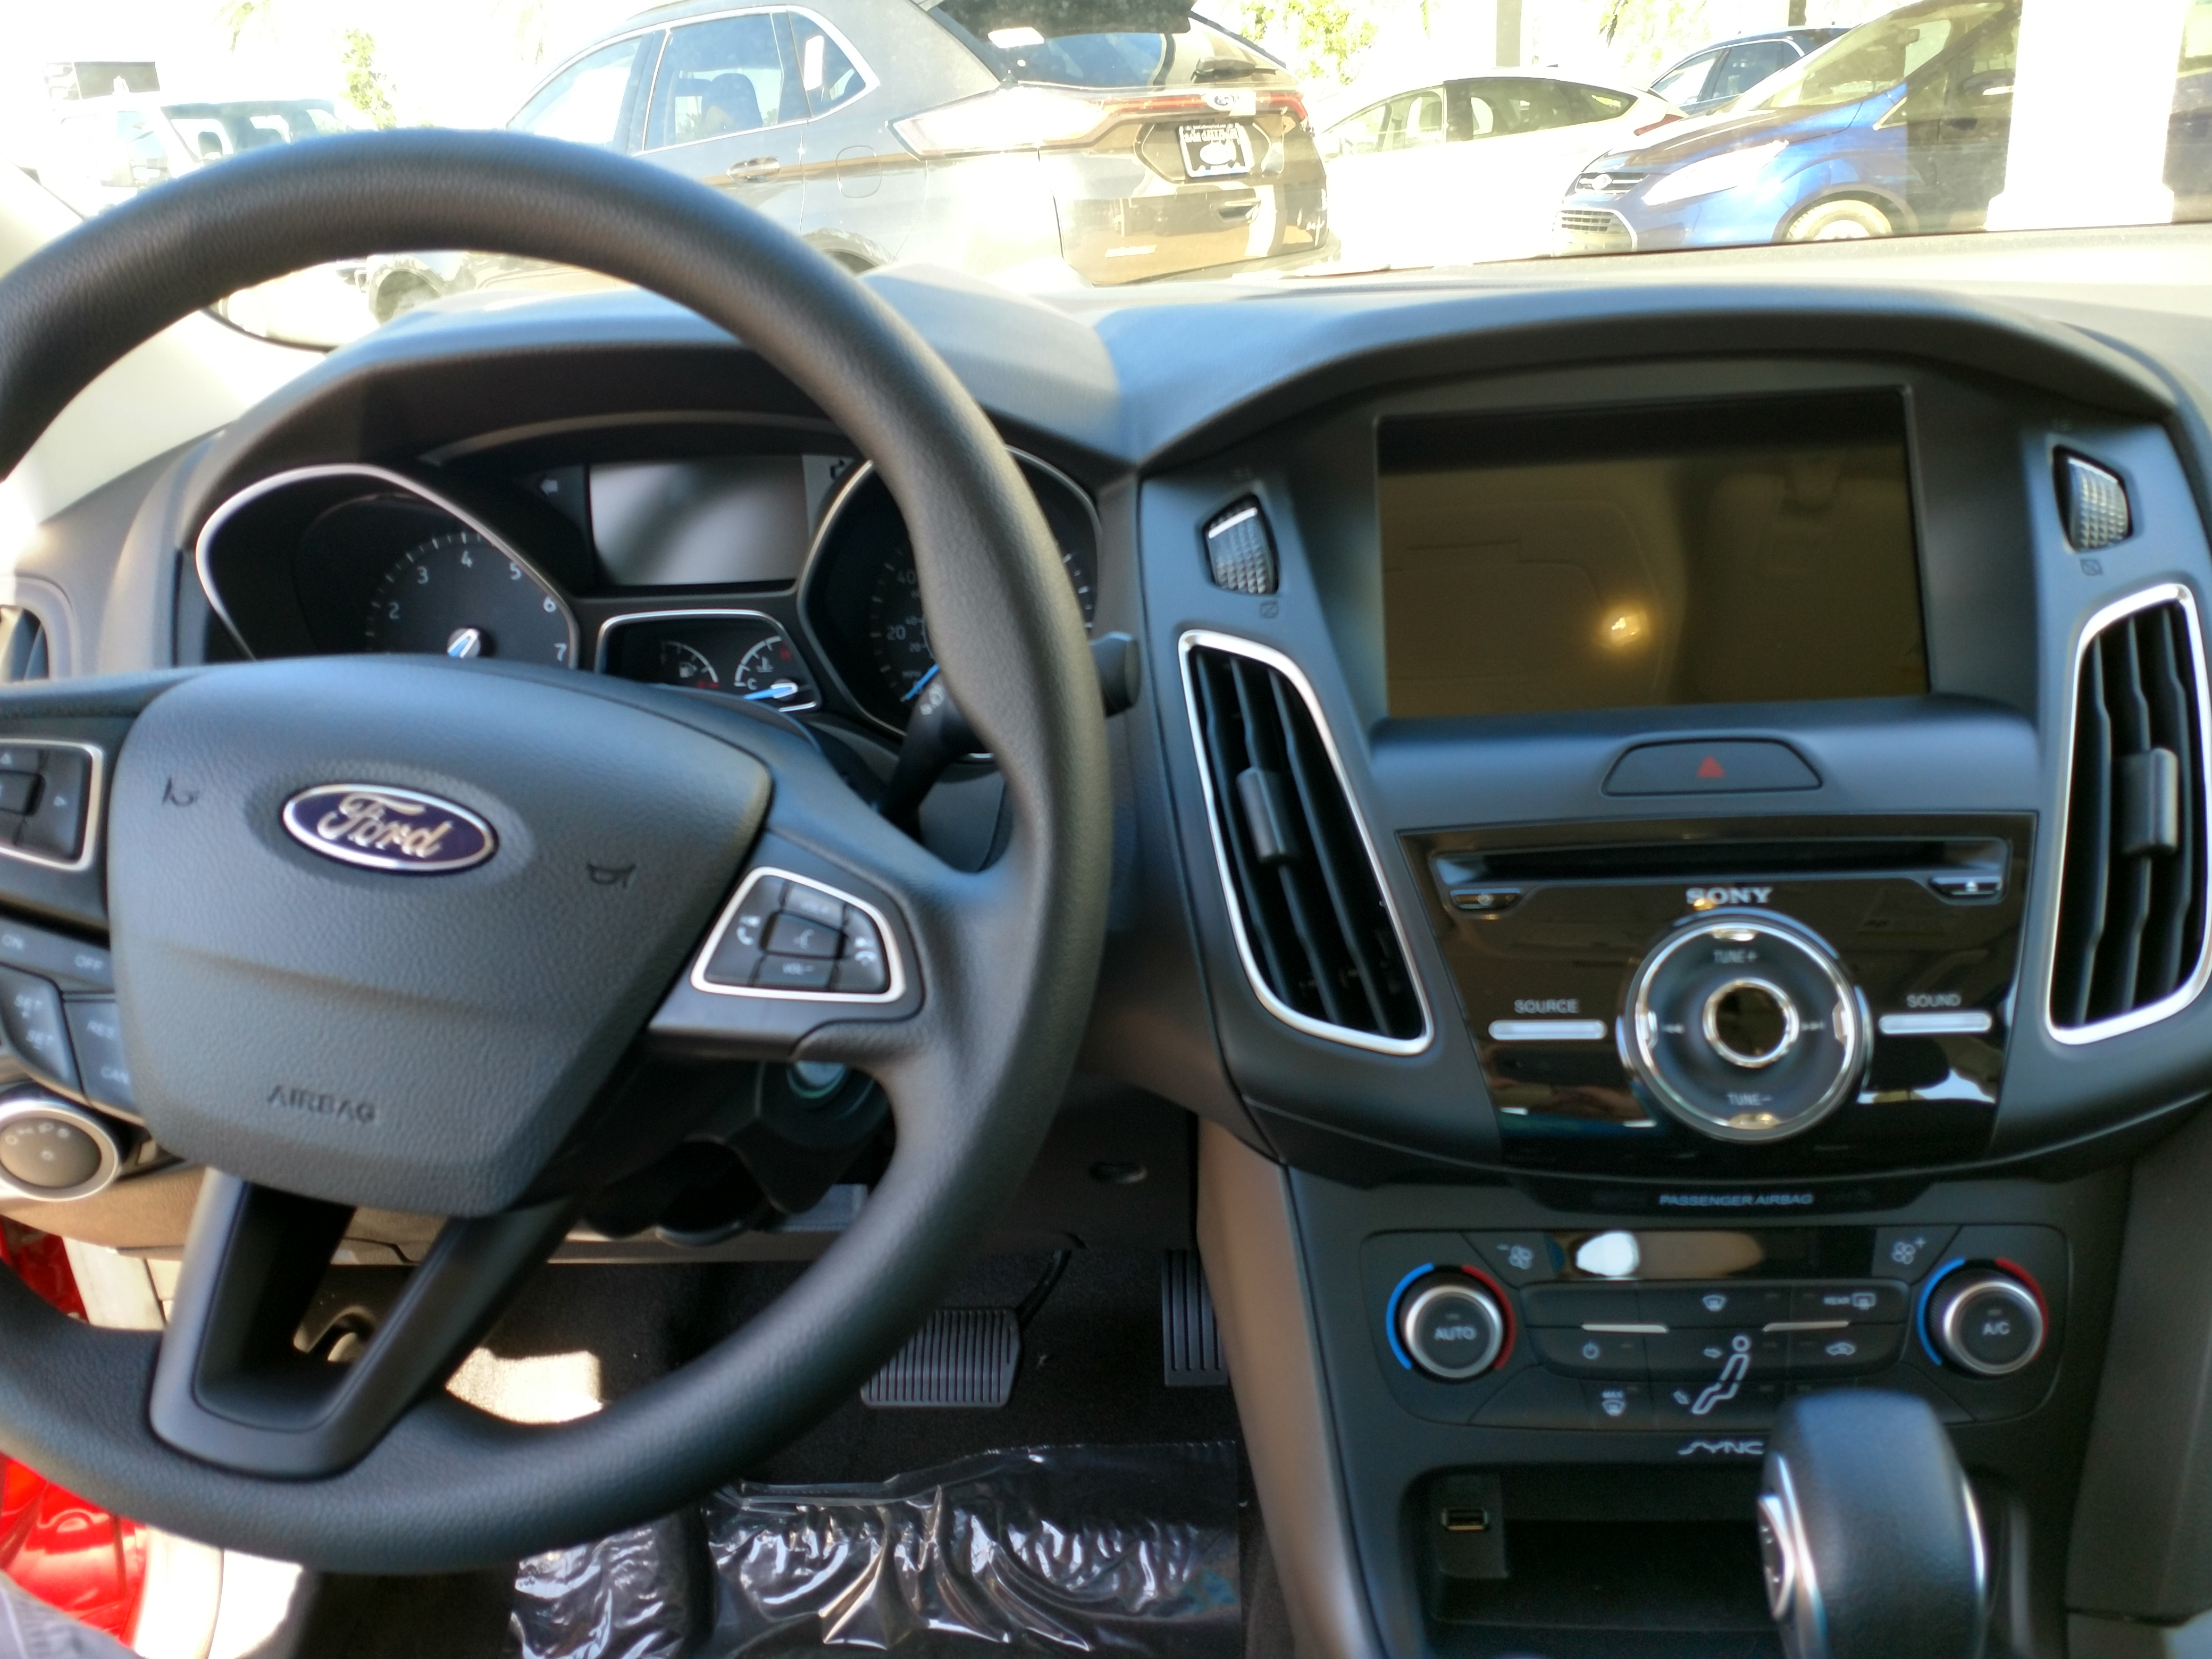Ford: (256, 763, 516, 892)
